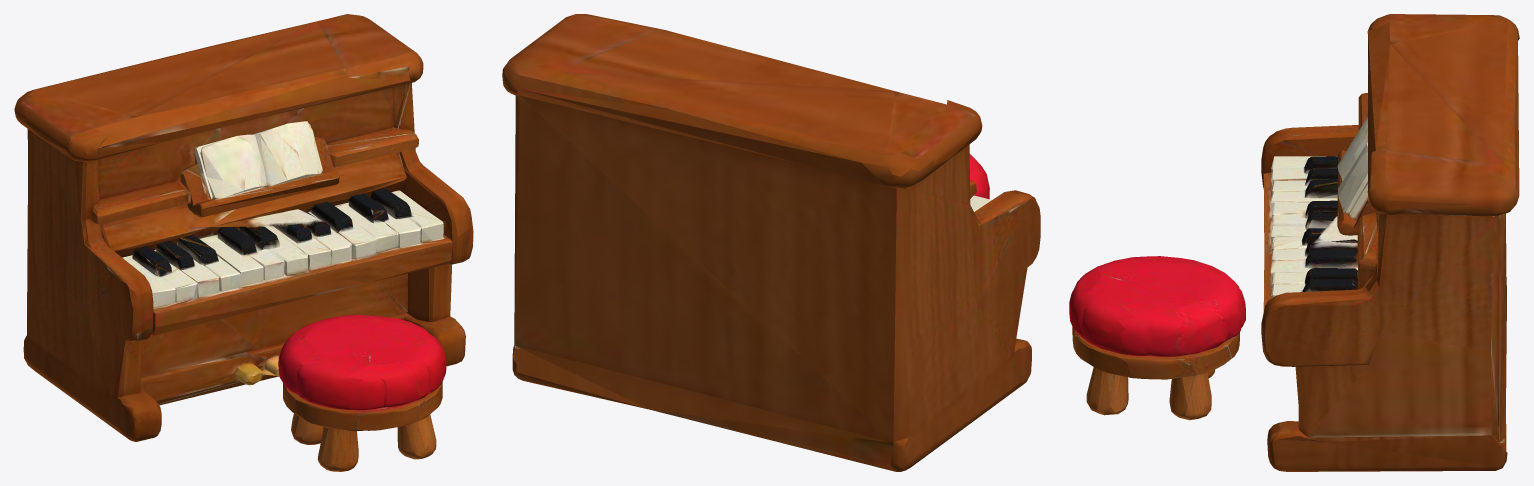
File: ds-klaver.glb
The picture shows the model from 3 angles, left to right: view 1: azimuth 30°, elevation 25°; view 2: azimuth 150°, elevation 25°; view 3: azimuth 270°, elevation 25°; orthographic projection. The views are drawn at different scales.
Bounding box in the file's own units: 1.84 × 1.35 × 1.9.
1 material, 1 textured.
